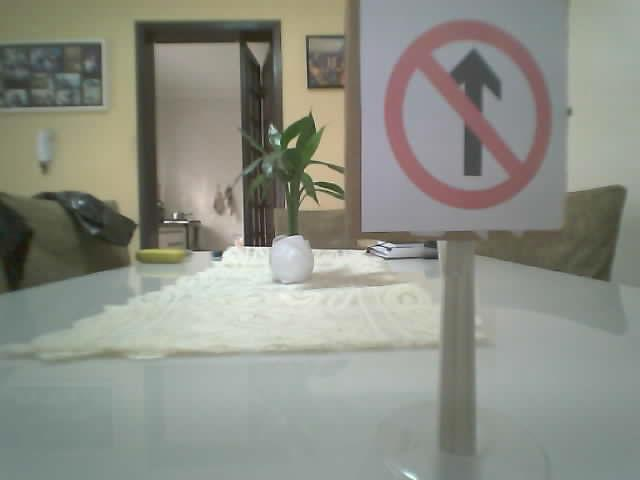R-3_sentido-proibido: (382, 19, 550, 209)
